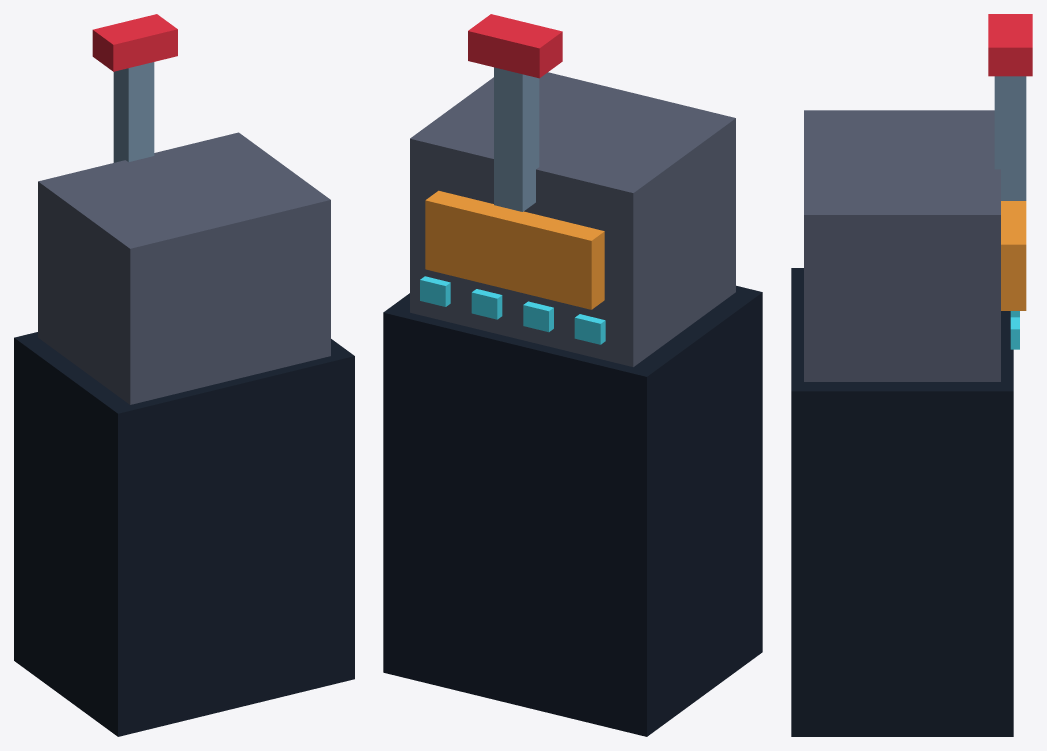
File: env_relay.obj
3 renders of one model, left to right at view 1: azimuth 30°, elevation 25°; view 2: azimuth 150°, elevation 25°; view 3: azimuth 270°, elevation 25°, orthographic. The views are drawn at different scales.
Bounding box in the file's own units: 0.92 × 2.24 × 0.76.
